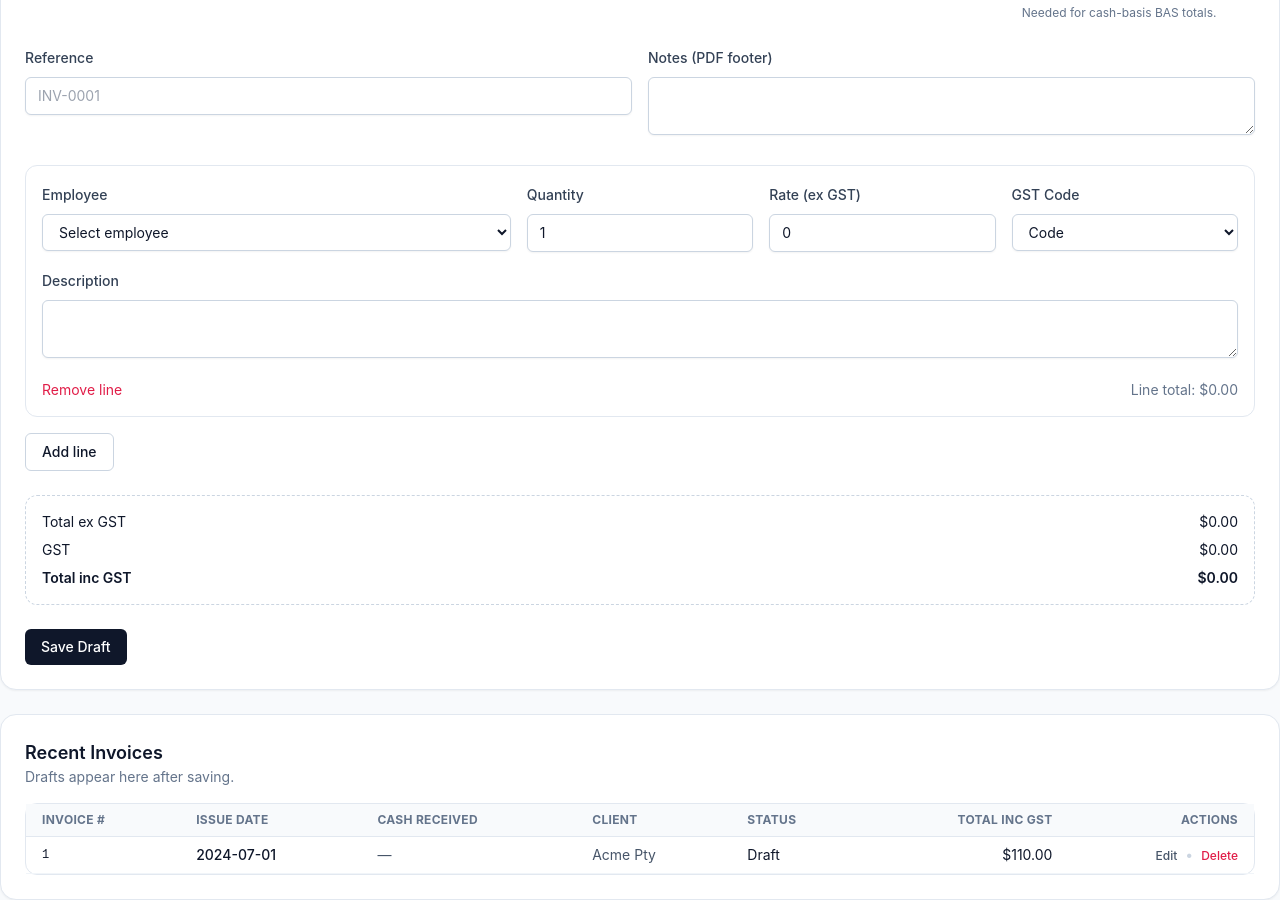
InvoicesPage › loads an invoice for editing and submits updates
(page scrolled)
Click the button "Edit" at (1166, 856), box [1156,848,1177,864]
(page scrolled)
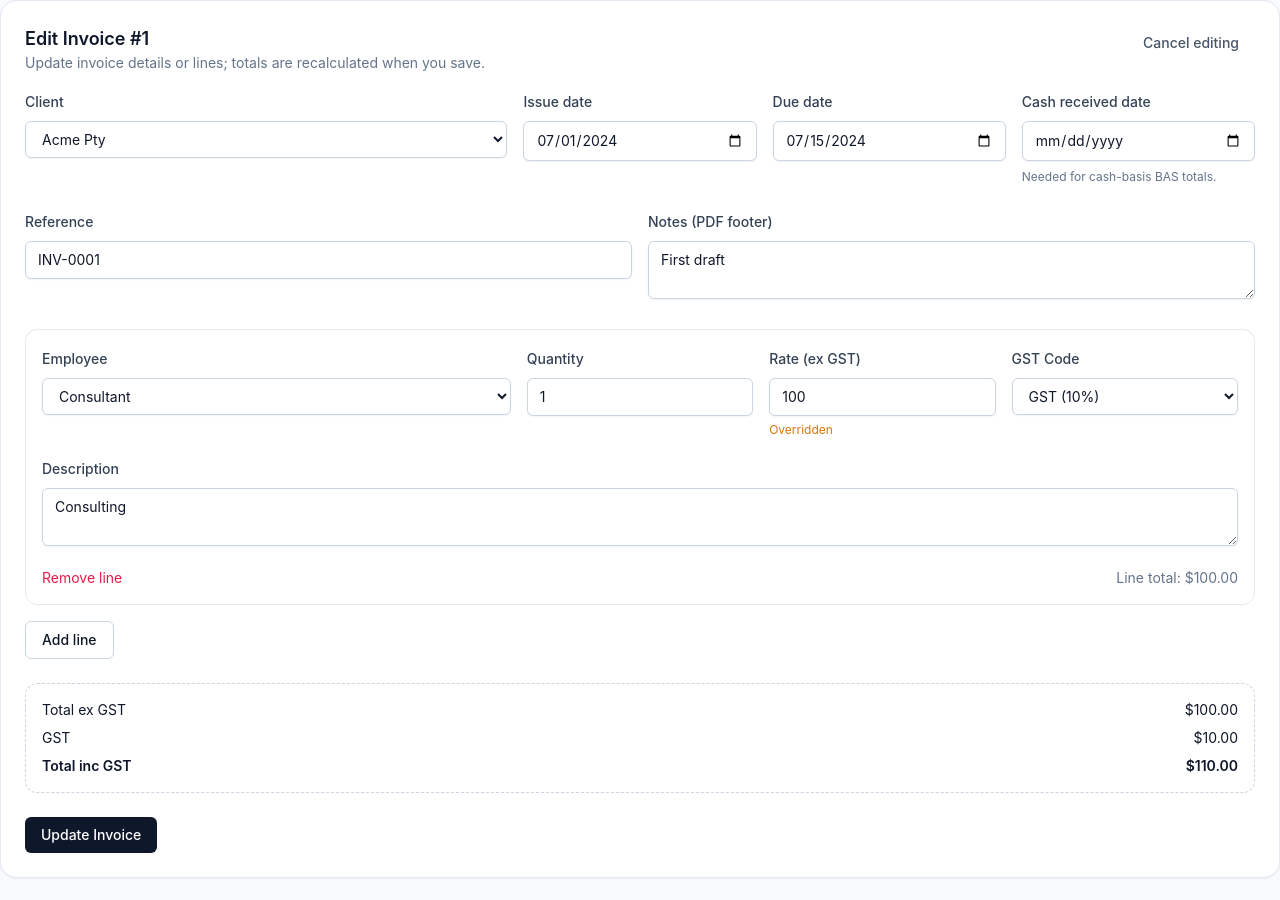
Expected: the heading "Edit Invoice #1" is shown, [25,28,149,49]
Replace the text in the text box labelled "Notes (PDF footer)" with "Updated invoice" at (952, 270), box [648,241,1255,299]
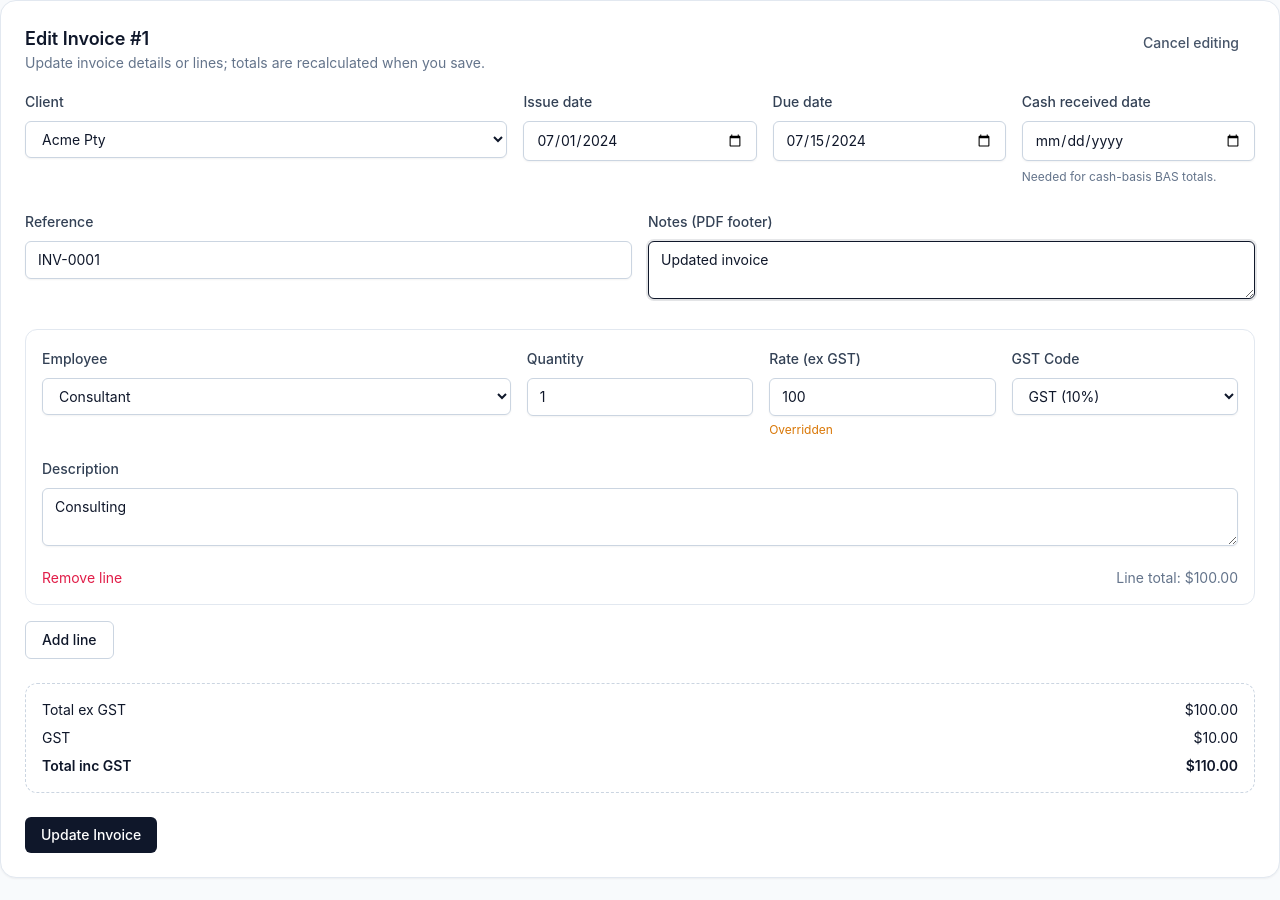
Click the button "Update Invoice" at (91, 835), box [25,817,157,853]
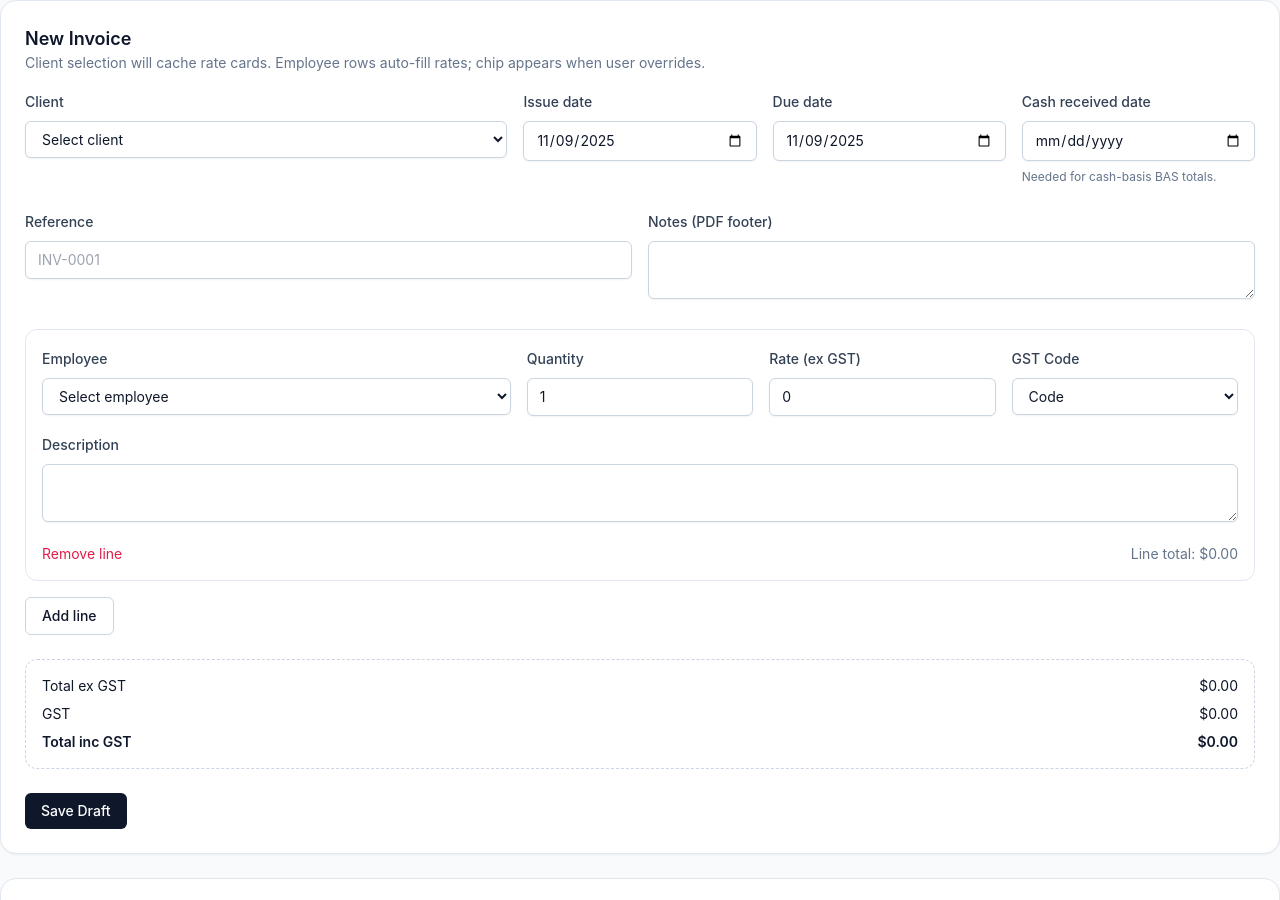
Expected: the heading "New Invoice" is shown, [25,28,131,49]
